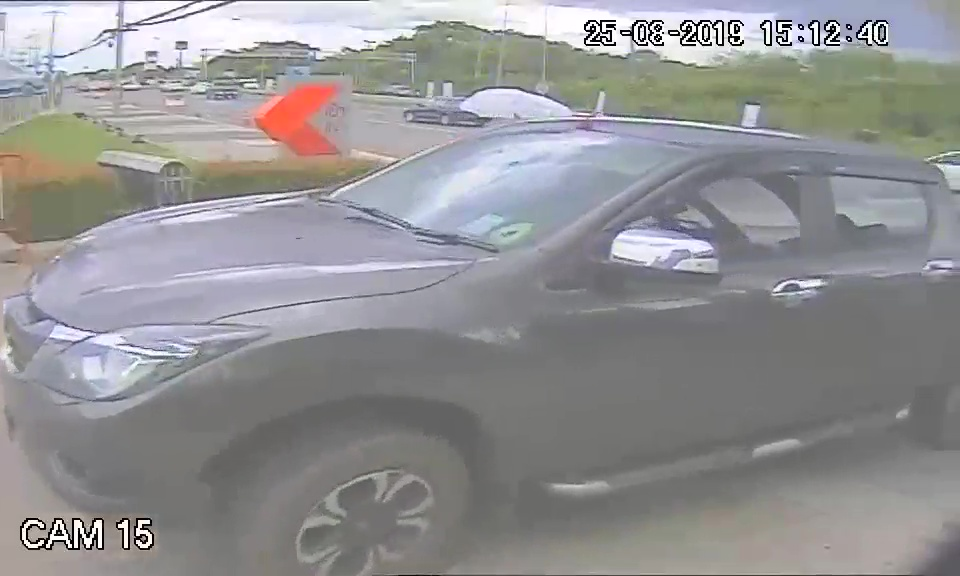pickup: (11, 114, 952, 520)
